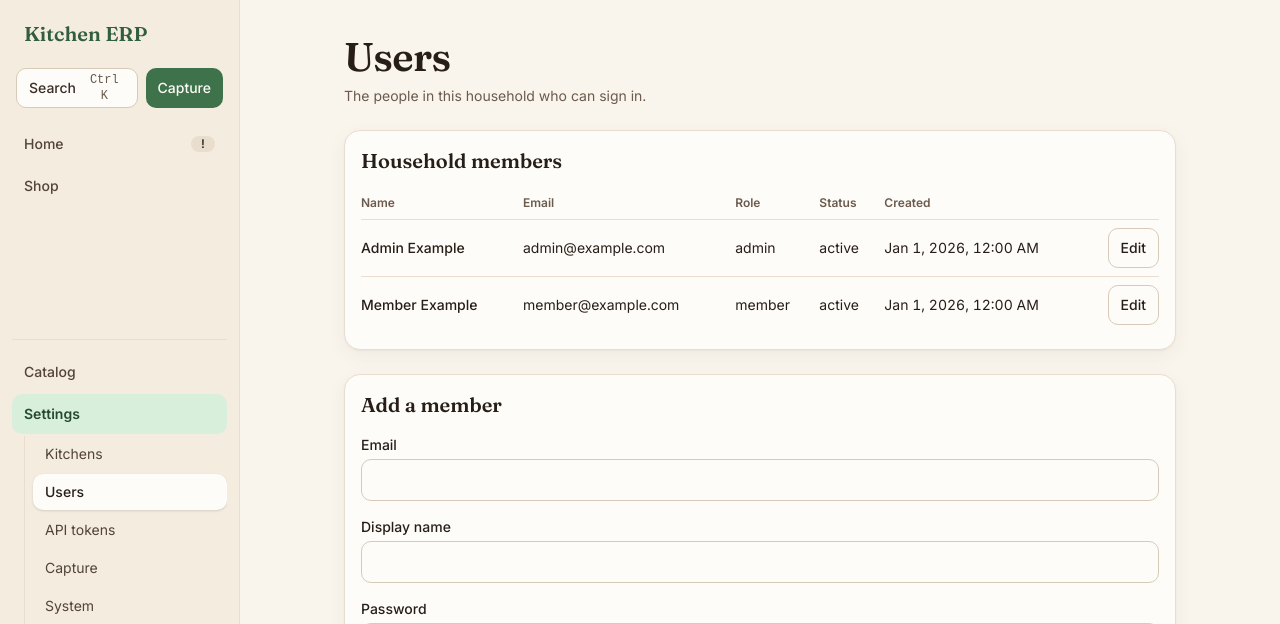
Test case: household members › does not offer to remove your own admin access or set your own password
This screenshot has width=1280, height=624.
Click the button with aria-label "Edit Admin Example": (1133, 248) top-left (1108, 228), bottom-right (1159, 268)
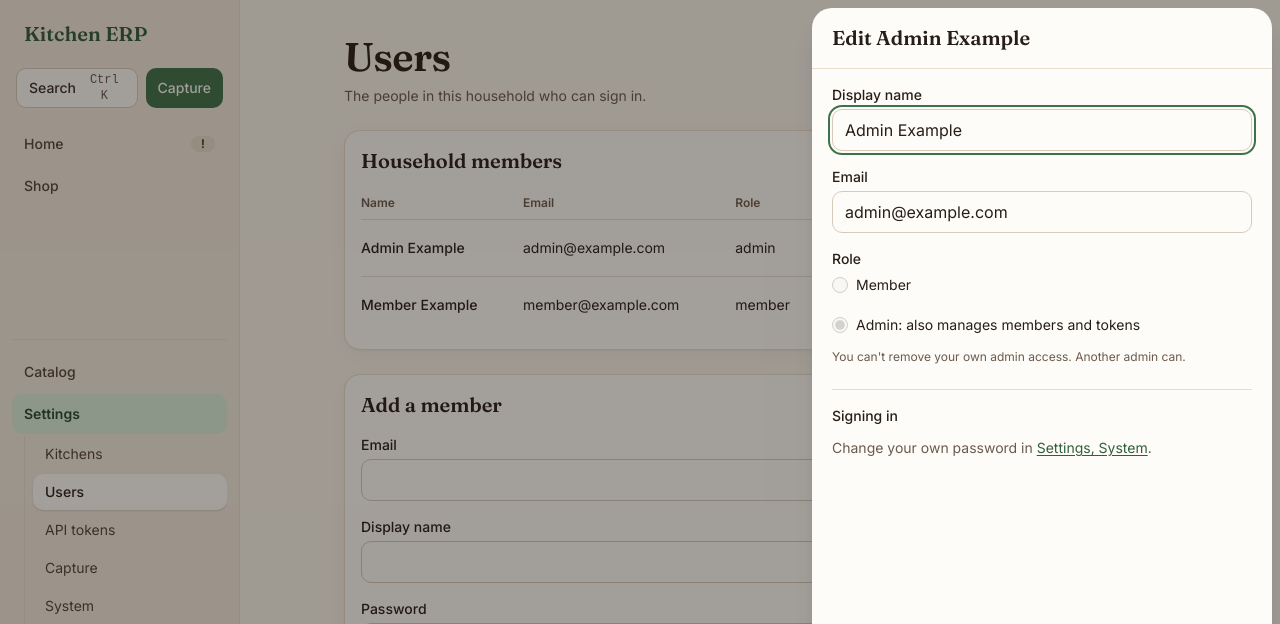
Expected: the radio button labelled "Member" is disabled, top-left (832, 277), bottom-right (848, 293)
